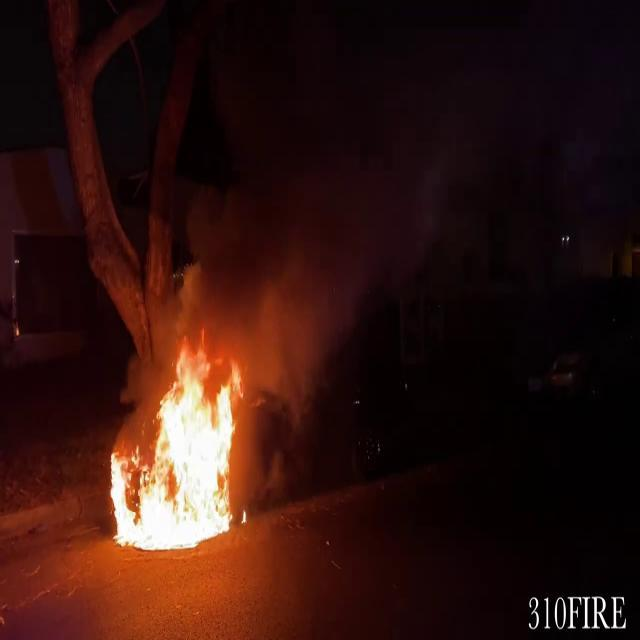Fire: (101, 336, 252, 554)
Smoke: (176, 17, 478, 394)
